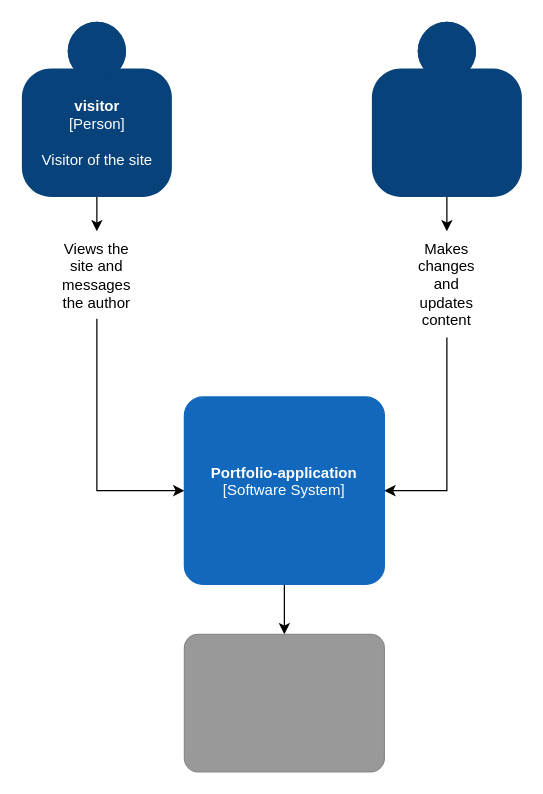
The diagram is 543 pixels wide and 794 high, and some of its shapes have lost their labels. Here are the shapes that lost their labels. From the top down, the centre of each, then its label:
At [446,108]: "Author [Person] The owner of the site".
At [283,702]: "Github API [Software System] Read data about projects and commits".
